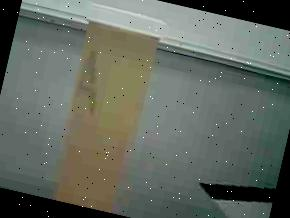Bottle A: (33, 0, 182, 218)
